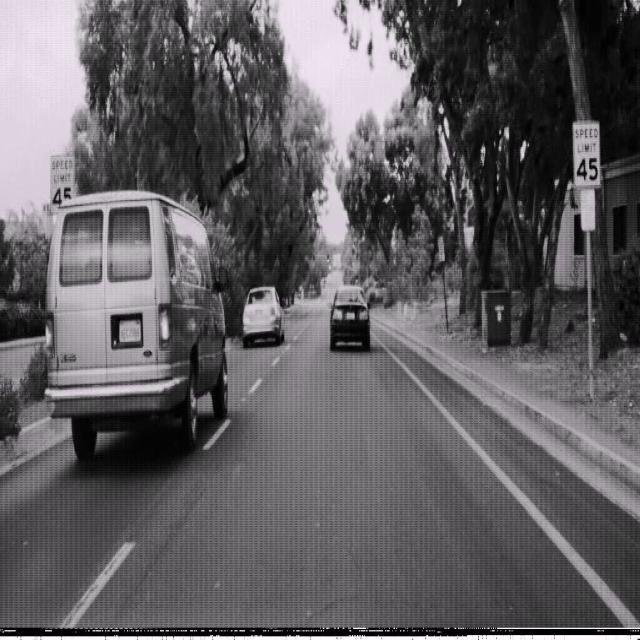speedLimit45: (572, 119, 601, 189)
